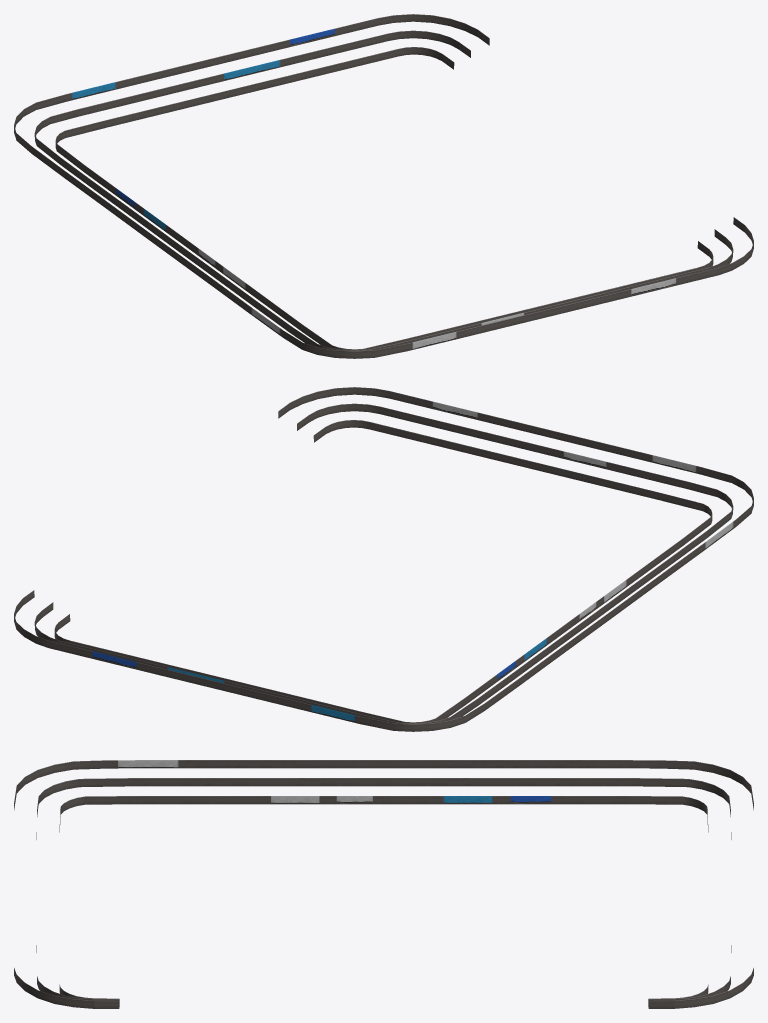
The model's file is st_021_team_000_flag.fbx.
3 renders of one model, top to bottom at view 1: azimuth 30°, elevation 25°; view 2: azimuth 150°, elevation 25°; view 3: azimuth 270°, elevation 25°, orthographic. The views are drawn at different scales.
Parts seen in each view (by area): view 1: team_flag_000_out; view 2: team_flag_000_out; view 3: team_flag_000_out.
Boxes of the visible parts, bbox=[...] form: team_flag_000_out: bbox=[14, 14, 753, 358]; team_flag_000_out: bbox=[14, 387, 753, 731]; team_flag_000_out: bbox=[14, 760, 753, 1008].
Size of the model in its own units: 112 by 5.48 by 146.
